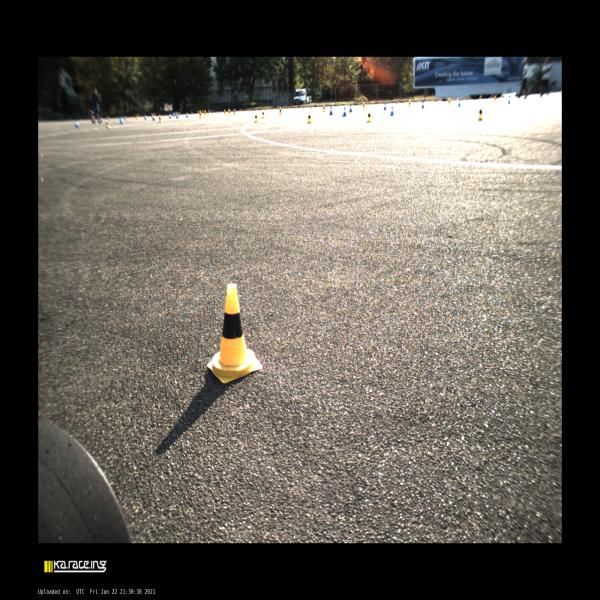blue_cone: (389, 106, 394, 115), (342, 106, 346, 116), (329, 106, 333, 115), (152, 114, 156, 121), (349, 104, 352, 113), (421, 100, 424, 109), (383, 102, 386, 110), (144, 114, 148, 120), (185, 112, 189, 117), (121, 118, 124, 124), (176, 112, 179, 118), (458, 99, 460, 107), (302, 105, 305, 109), (169, 113, 171, 118), (293, 105, 295, 109), (311, 104, 312, 108)
yellow_cone: (207, 283, 262, 384), (477, 107, 483, 120), (307, 113, 312, 124), (366, 112, 371, 122), (254, 113, 258, 123), (159, 114, 163, 124), (261, 111, 265, 119), (107, 121, 111, 129), (198, 111, 202, 119), (279, 107, 282, 115), (323, 104, 326, 112), (408, 100, 411, 108), (233, 109, 236, 116), (135, 114, 138, 120), (363, 102, 365, 110), (448, 98, 450, 106), (224, 109, 226, 116), (228, 109, 230, 116), (138, 114, 140, 120), (204, 110, 206, 116), (210, 109, 212, 114), (247, 107, 249, 112), (282, 106, 284, 110), (208, 109, 209, 115), (277, 106, 278, 110)
